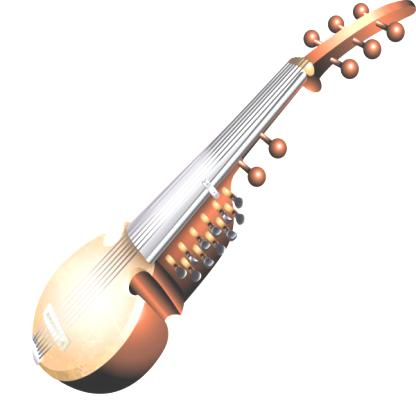Veena: (22, 176, 187, 380)
